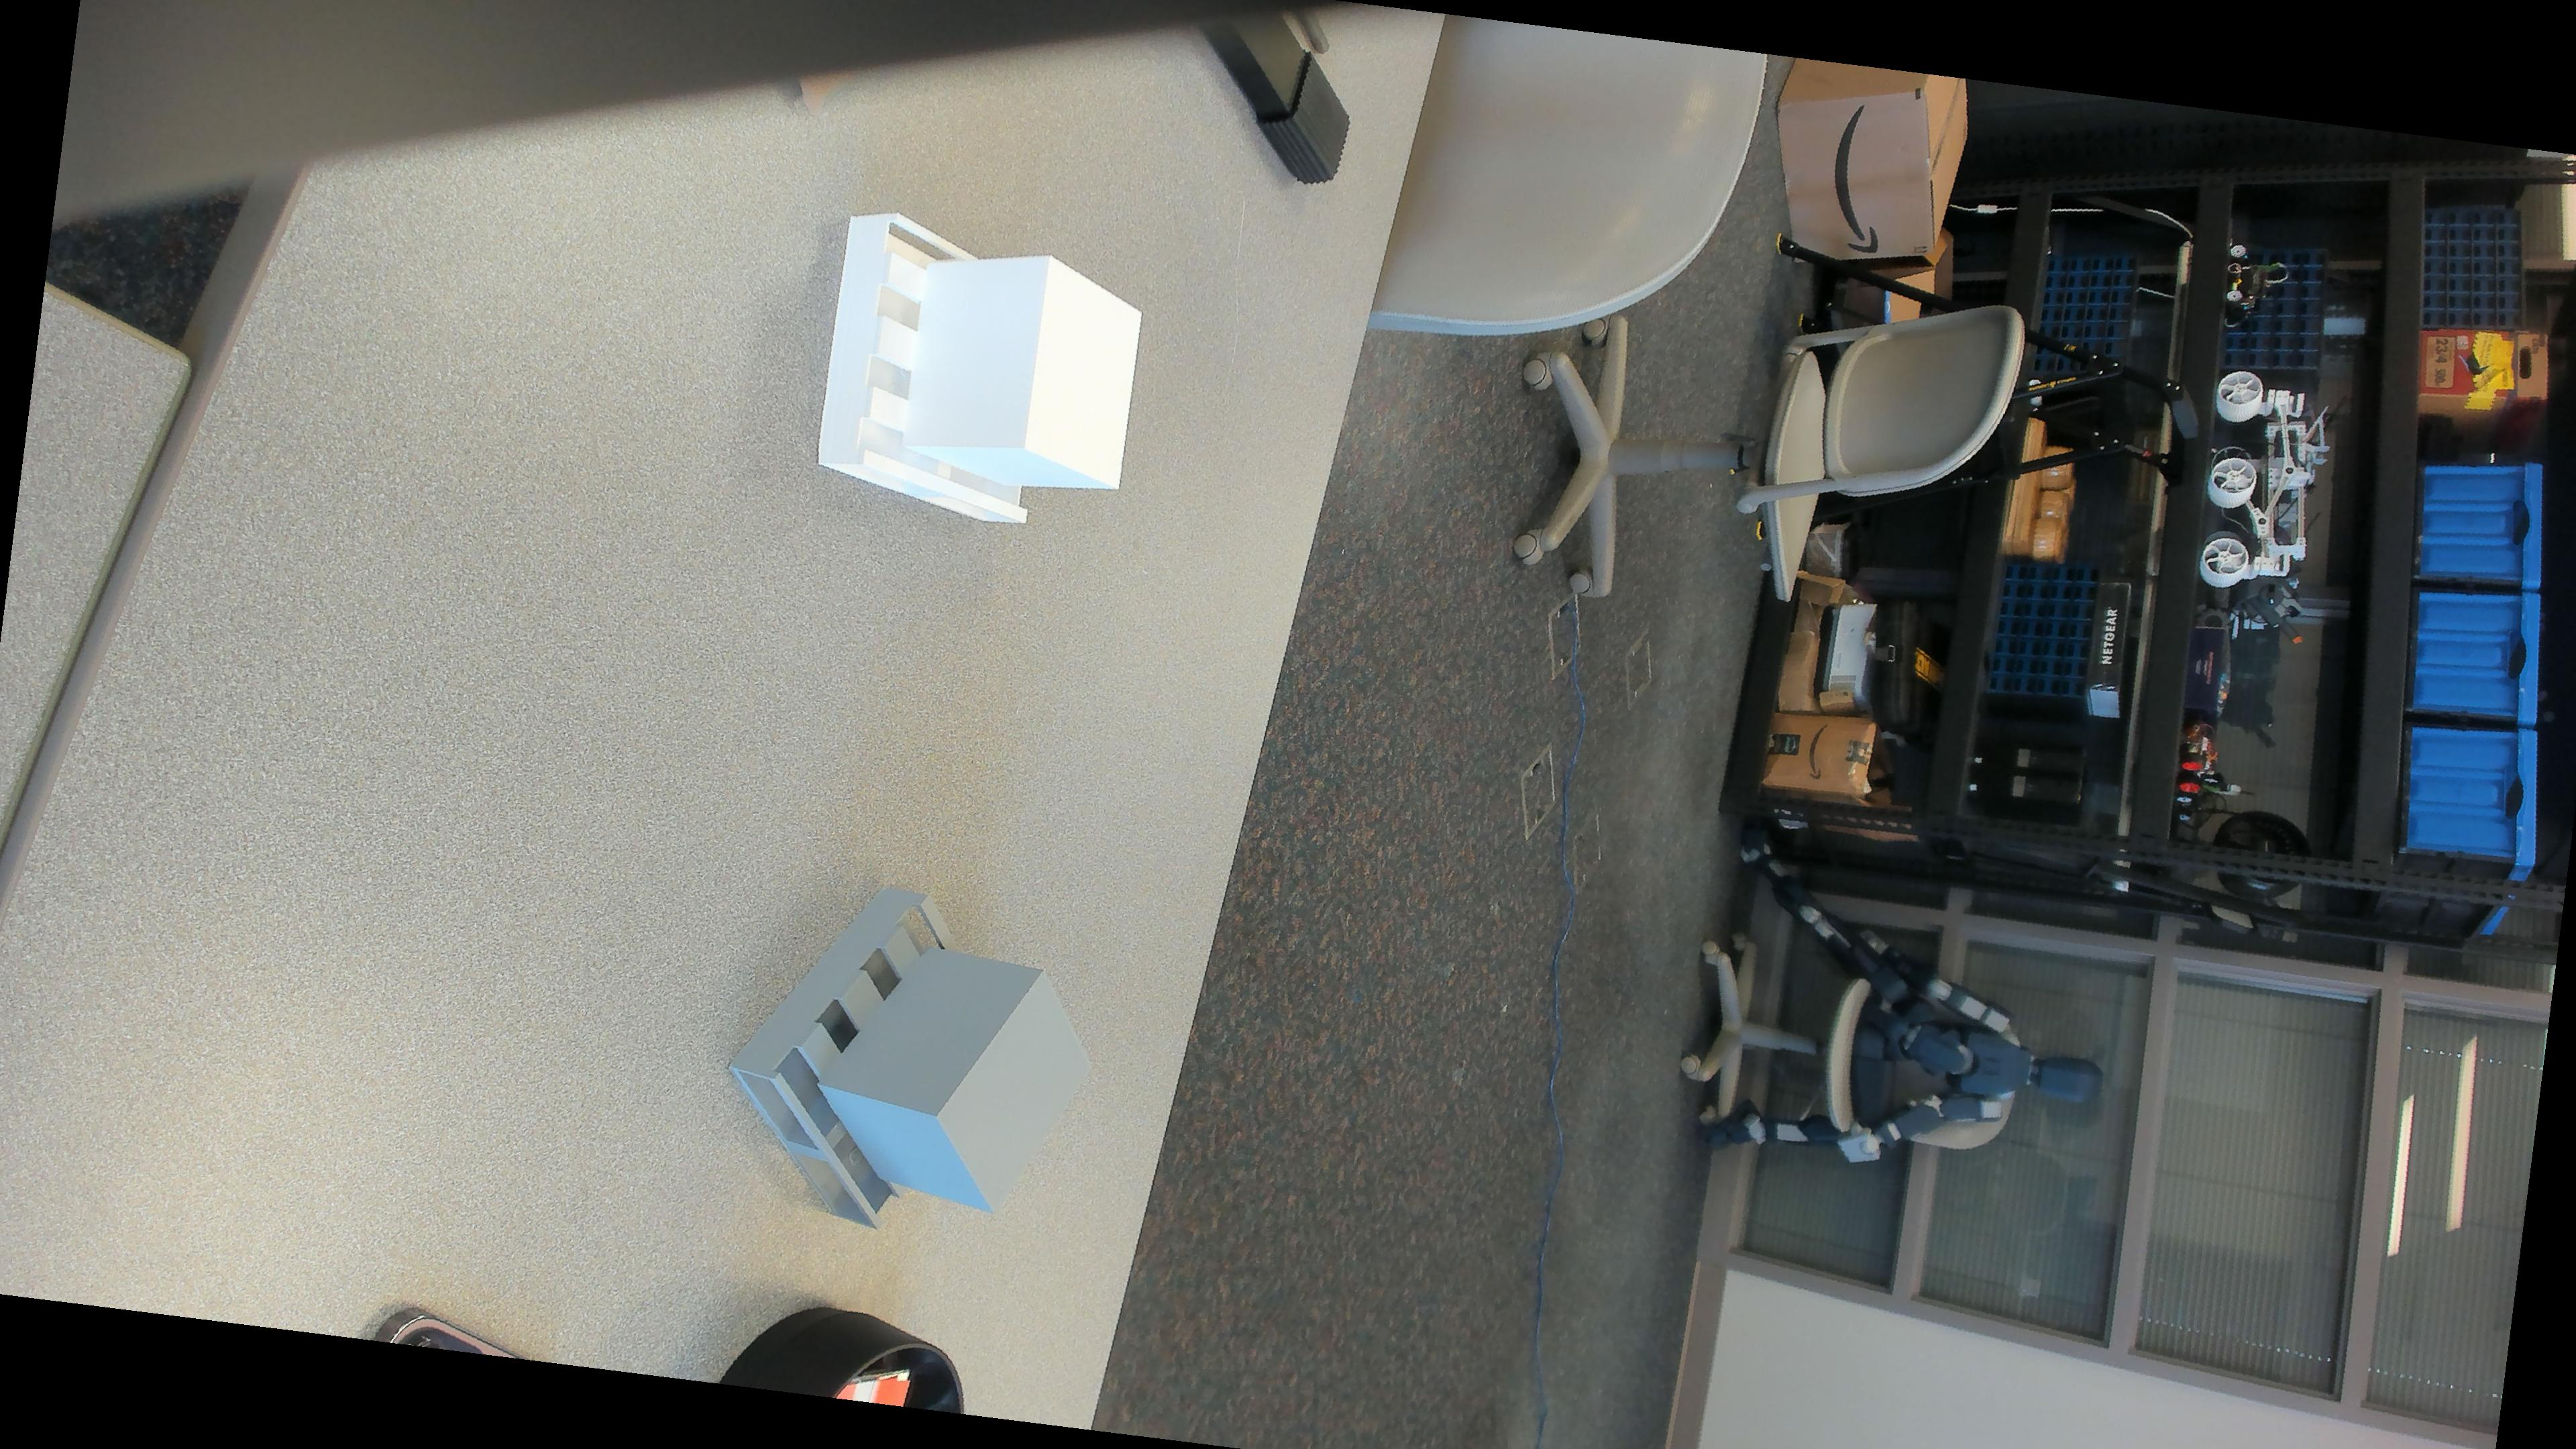grey pallet: (720, 878, 1100, 1258)
white pallet: (805, 207, 1146, 529)
